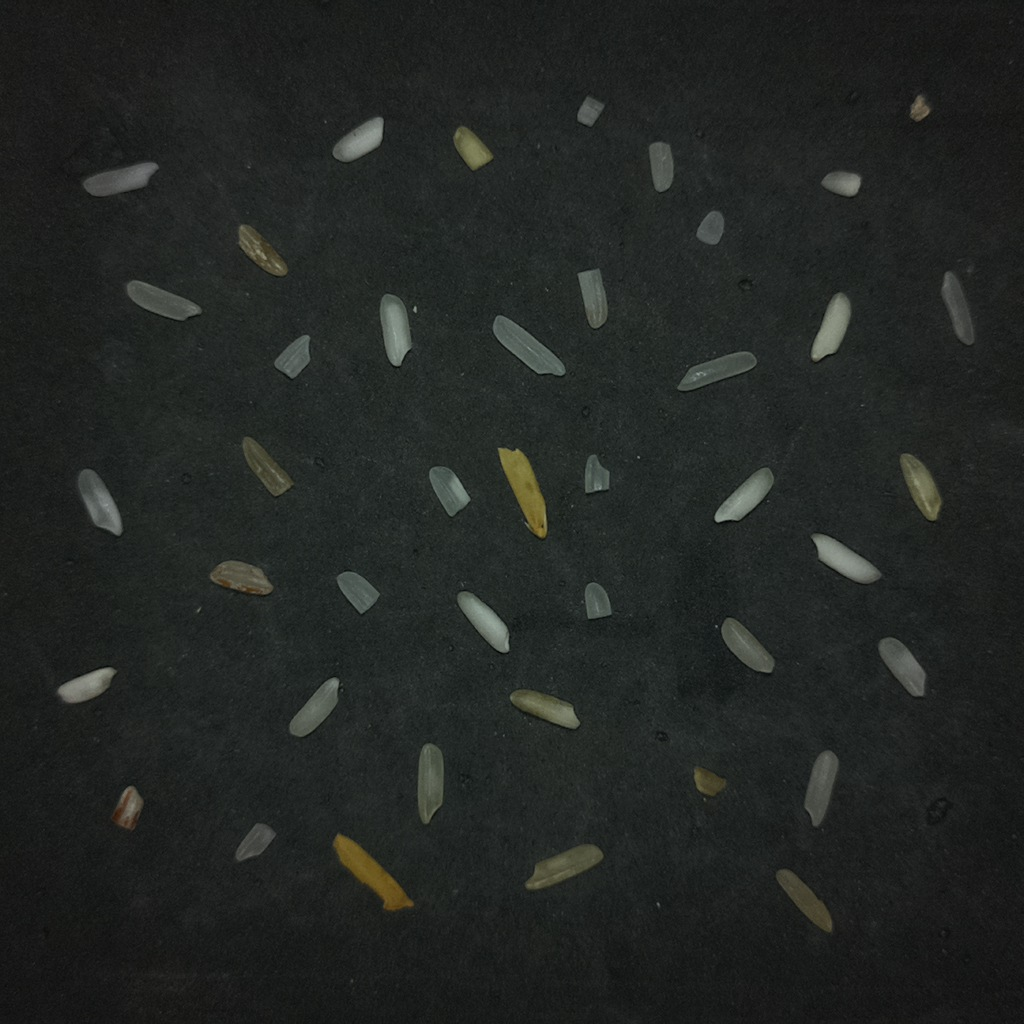broken: (425, 466, 473, 521), (336, 572, 379, 614), (577, 268, 606, 328), (234, 823, 275, 861), (274, 335, 310, 378), (649, 141, 673, 192), (584, 454, 609, 493), (585, 582, 611, 619), (696, 210, 723, 245), (577, 95, 604, 126)
chalky: (811, 533, 881, 583), (714, 467, 773, 522), (457, 592, 509, 652), (811, 292, 851, 361), (379, 293, 411, 367), (332, 116, 383, 162), (56, 667, 116, 703), (820, 167, 859, 198)
discolored: (525, 844, 603, 890), (776, 869, 832, 933), (242, 436, 293, 496), (900, 453, 941, 521), (510, 689, 579, 729), (453, 126, 492, 170), (693, 766, 726, 797)
foreign: (909, 93, 931, 121)
paddy: (333, 834, 413, 910), (498, 447, 547, 538)
red: (238, 224, 287, 276), (209, 560, 273, 594), (111, 785, 143, 830)
whole: (492, 315, 564, 375), (677, 352, 756, 391), (126, 280, 201, 320), (289, 677, 339, 737), (721, 617, 774, 673), (77, 470, 122, 535), (879, 637, 925, 697), (82, 161, 157, 196), (804, 750, 838, 826), (940, 272, 974, 345), (418, 743, 443, 824)
